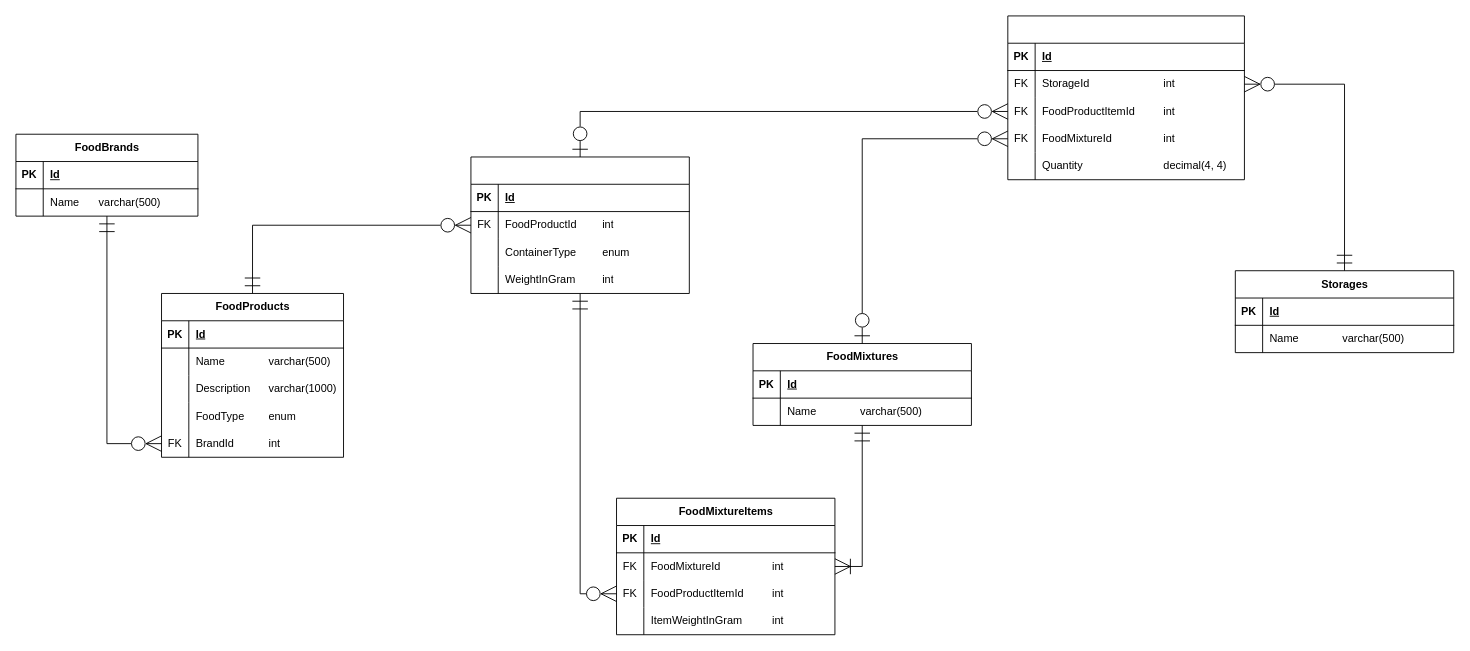
Image size: 1470x651. Some labels were removed from this diagram. The box of each missing label's shape, as (x1, y1, x2, y2) in pixels:
FoodProductItems: (470, 156, 689, 293)
StorageItems: (1007, 15, 1244, 180)
